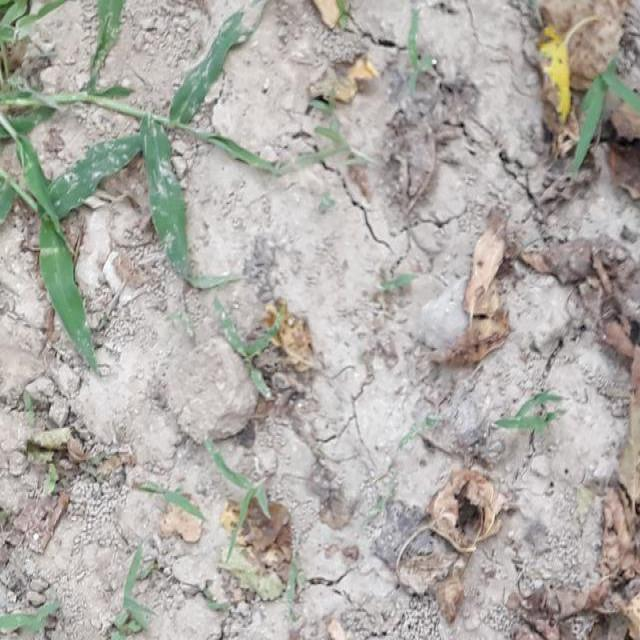weed: (14, 13, 255, 292), (211, 450, 270, 554), (220, 316, 284, 394), (584, 56, 622, 160), (124, 558, 158, 640), (498, 392, 564, 432), (3, 606, 80, 635), (310, 100, 350, 154), (148, 482, 204, 520)
